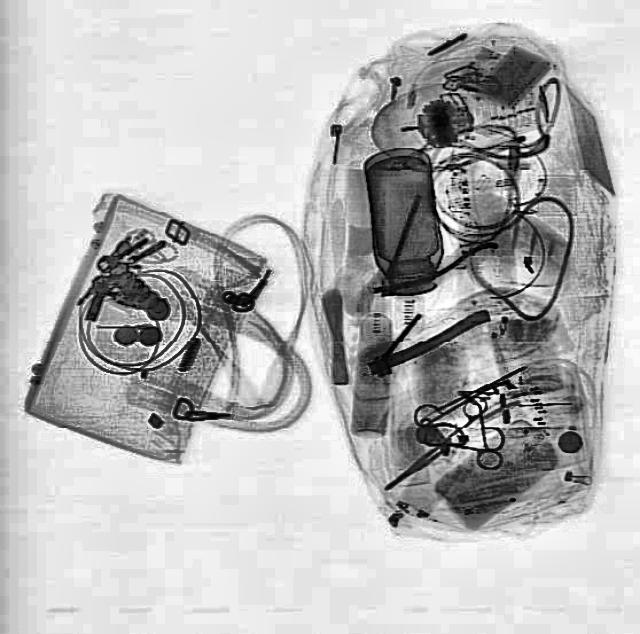Scissors: (364, 389, 516, 511)
